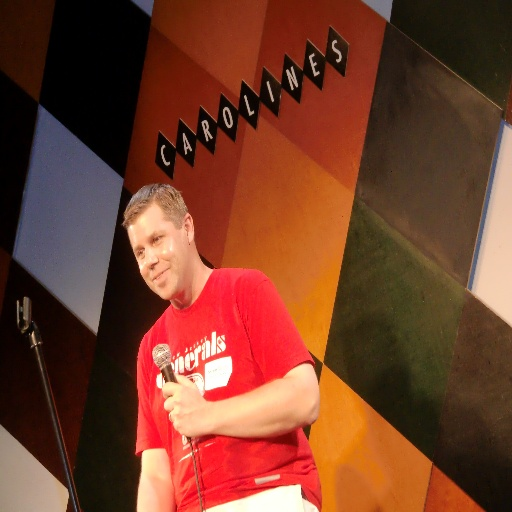hand: (158, 381, 209, 436)
